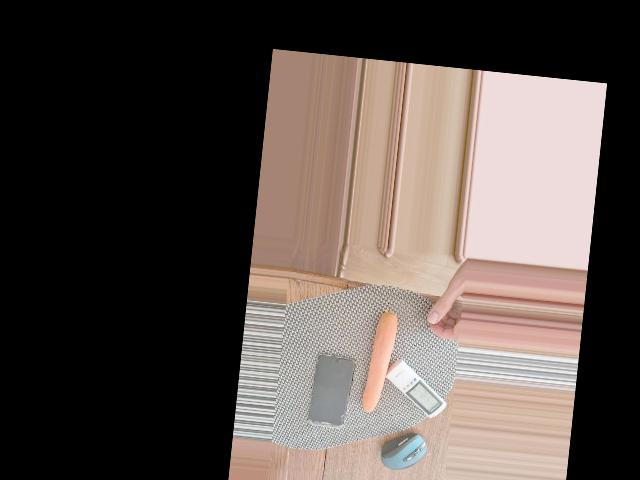carrot: (359, 309, 400, 415)
